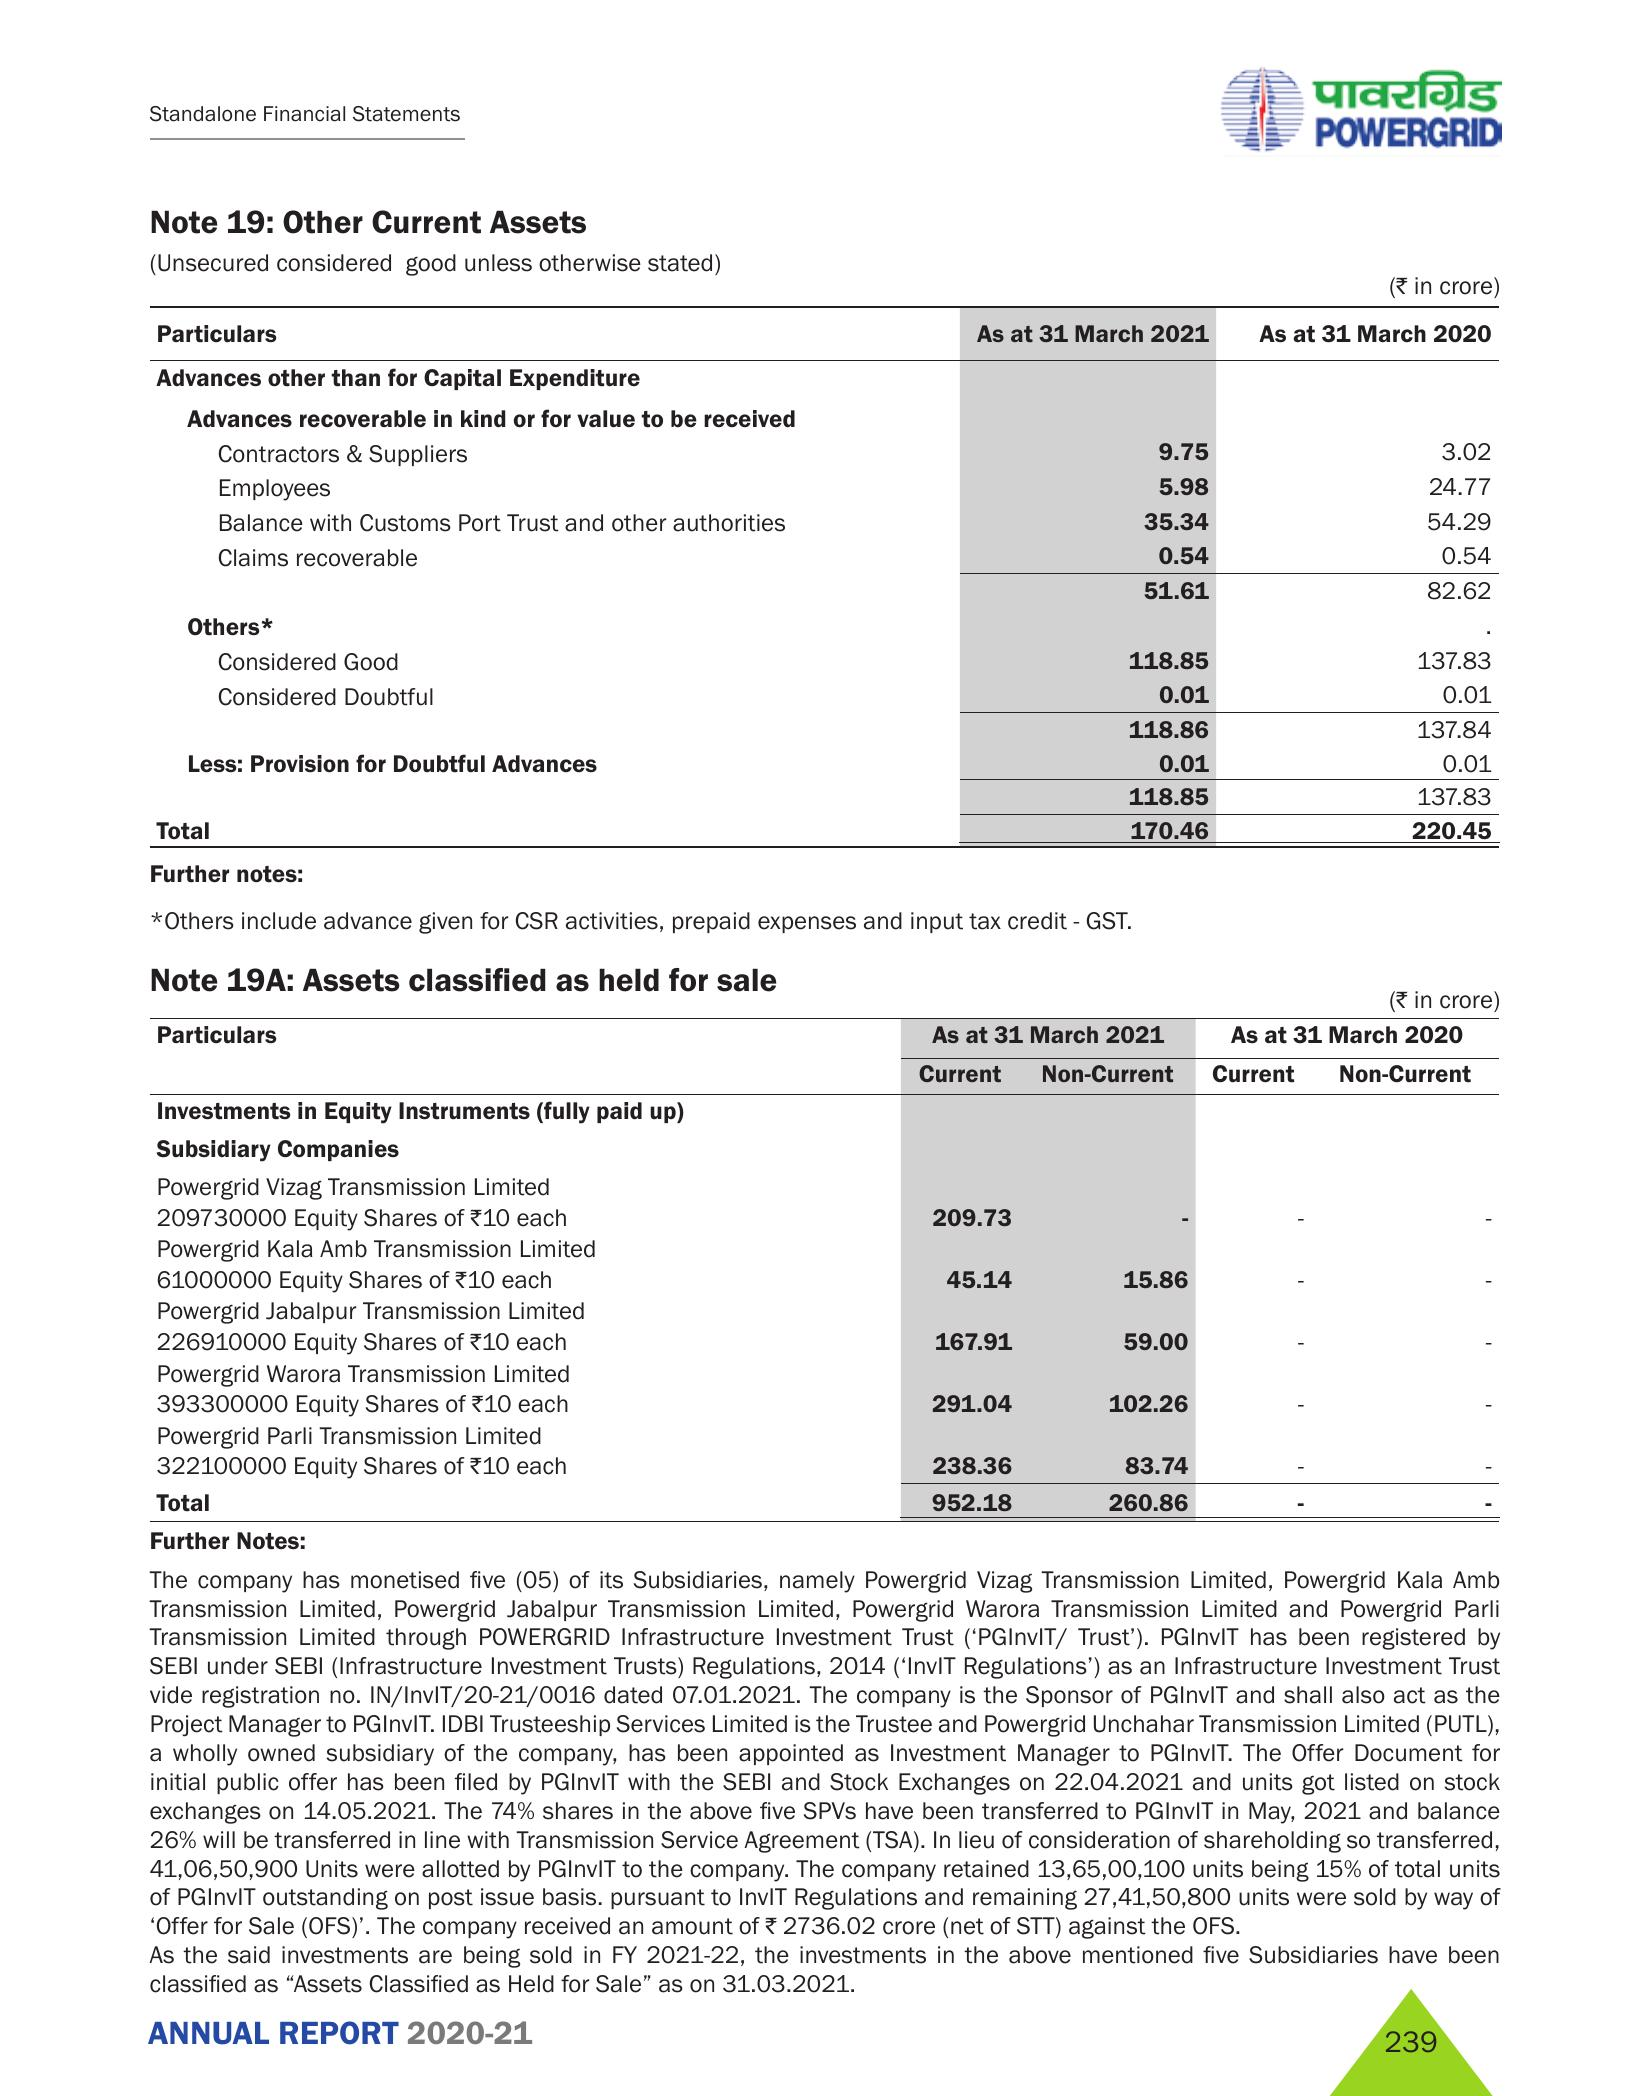Footer: (0, 1985, 1650, 2096)
Header: (0, 0, 1650, 172)
Table: (114, 303, 1516, 846), (122, 1012, 1507, 1524)
